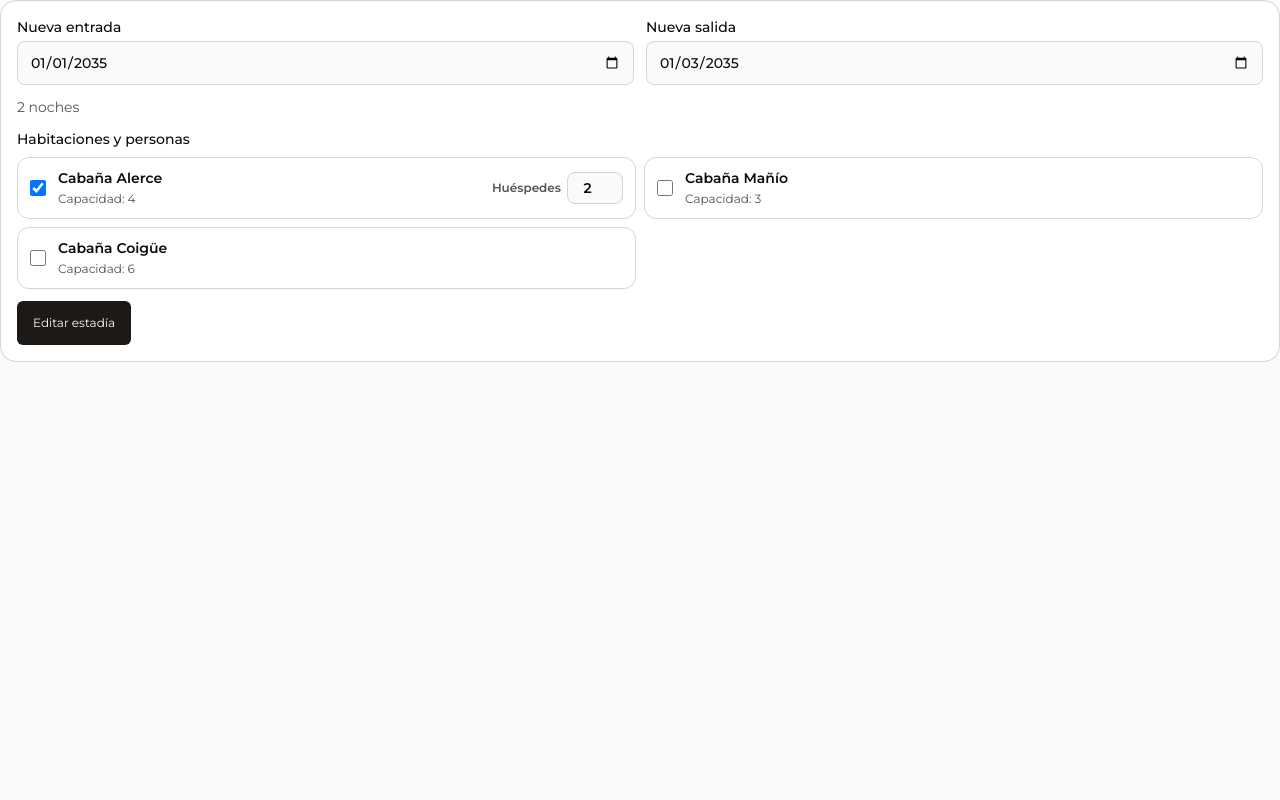
Test: stay form sends all three axes in one submit (task 6.1) › names the rooms that will be added and removed before confirming
Click the checkbox labelled "Cabaña Alerce Capacidad: 4": click(38, 188) top-left (30, 180), bottom-right (46, 196)
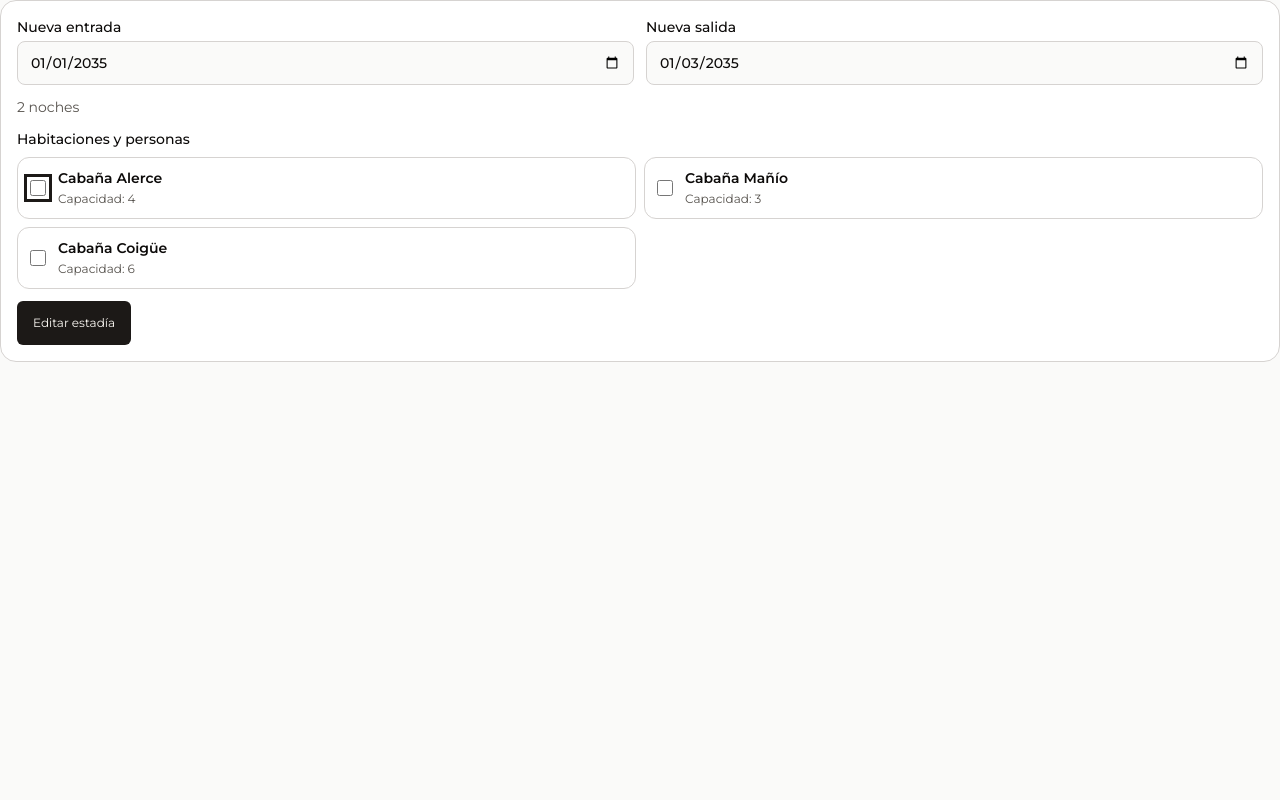
Click the checkbox labelled "Cabaña Mañío Capacidad: 3": click(665, 188) top-left (657, 180), bottom-right (673, 196)
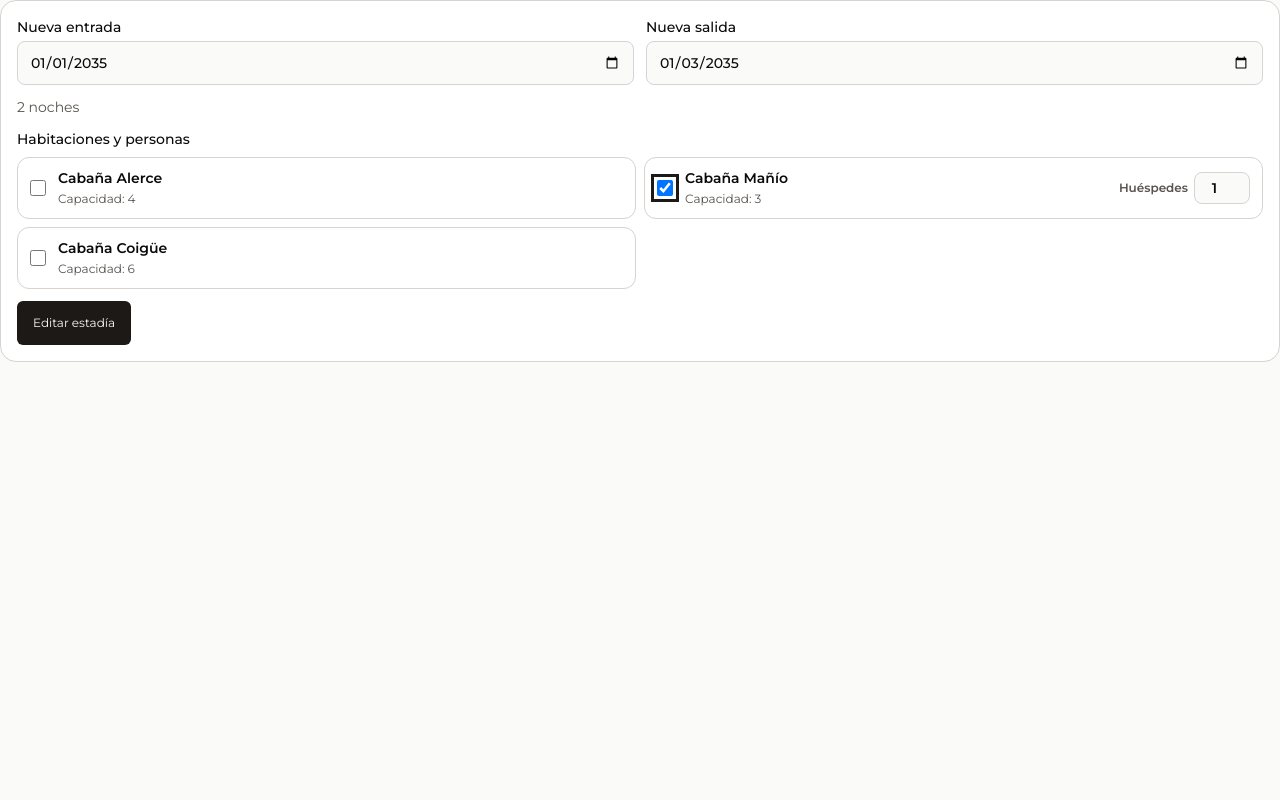
Submit the form named "Editar estadía de la reserva", box top-left (0, 0), bottom-right (1279, 362)
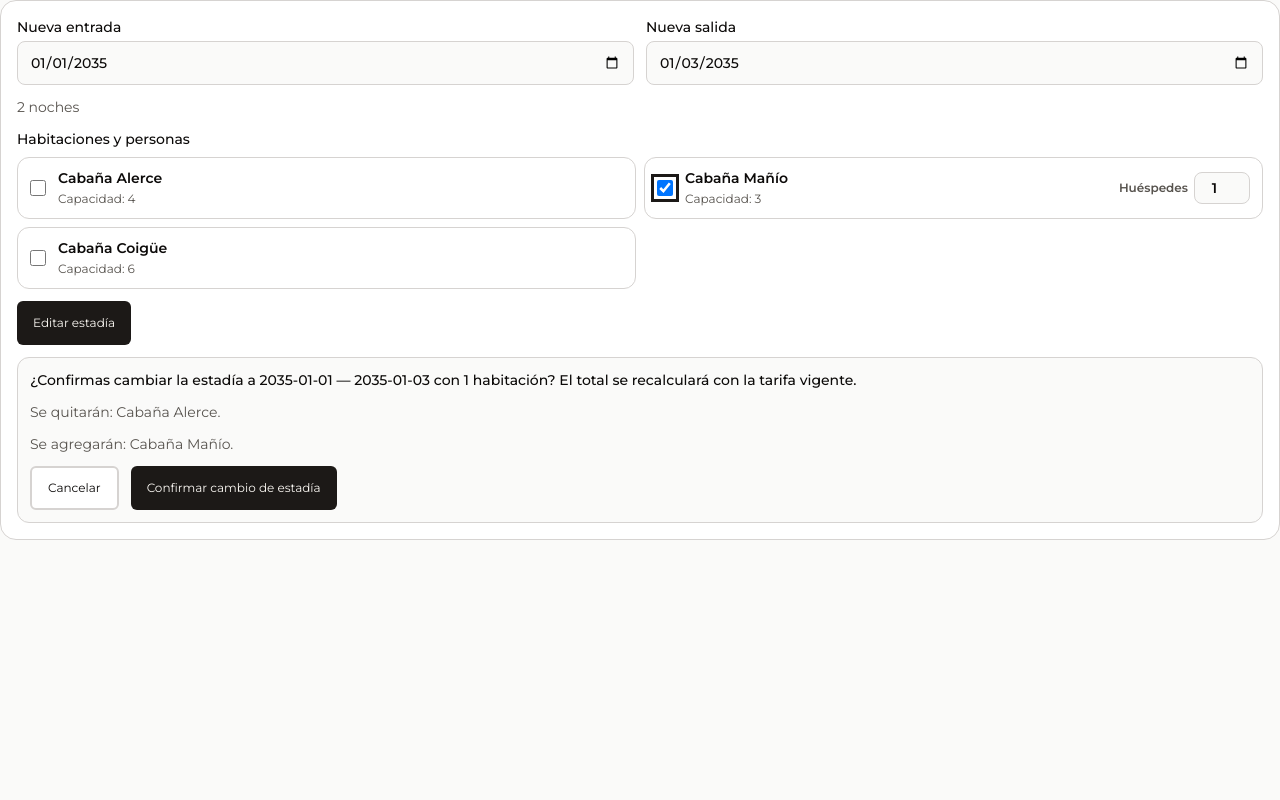
Expected: the dialog named "Confirmar edición de estadía" shows "Se quitarán: Cabaña Alerce.", top-left (17, 357), bottom-right (1263, 523)
Expected: the dialog named "Confirmar edición de estadía" shows "Se agregarán: Cabaña Mañío.", top-left (17, 357), bottom-right (1263, 523)
